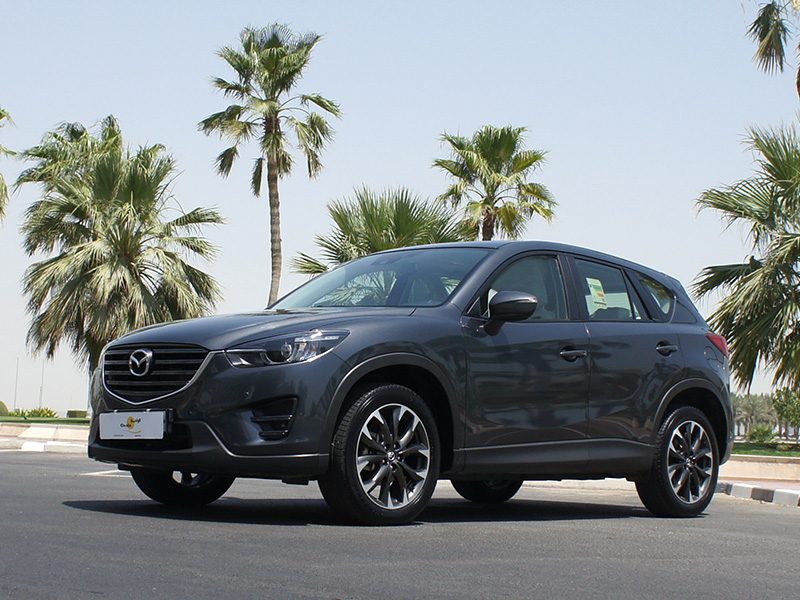other: (87, 244, 728, 509)
